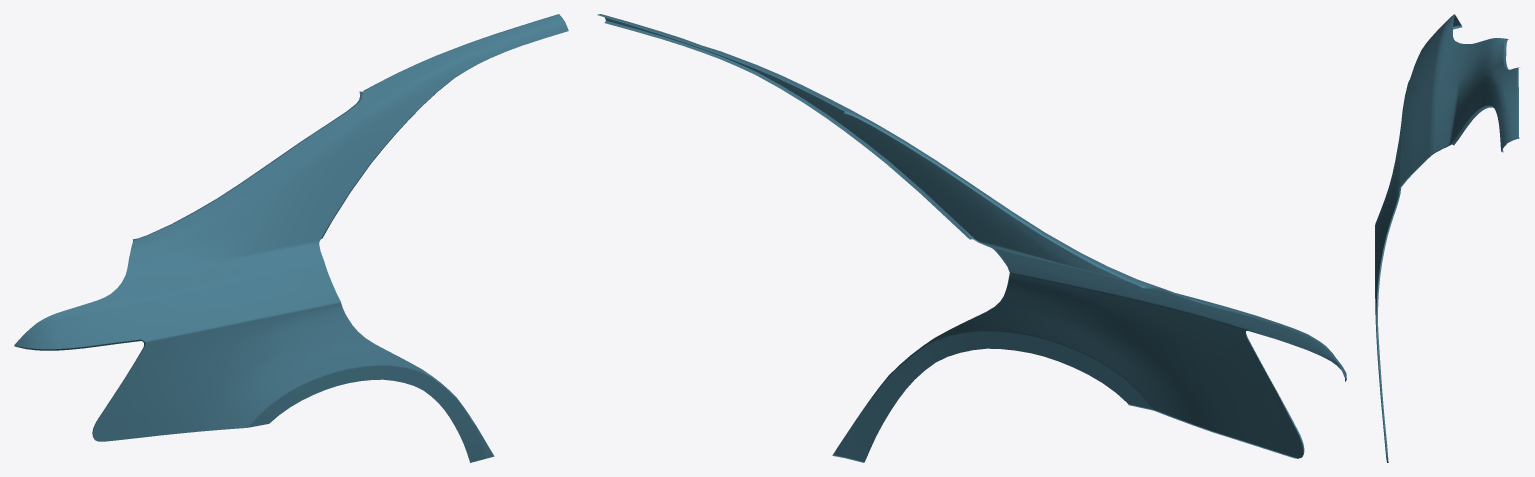
3 views of the same model, side by side, from view 1: azimuth 30°, elevation 25°; view 2: azimuth 150°, elevation 25°; view 3: azimuth 270°, elevation 25° (orthographic). The views are drawn at different scales.
Visible parts, largest first — view 1: Y175_18_401B_R_1_DaS_Y175_18_401B_R, Y175_18_401B_R_1_DaS_Y175_18_401B_R_E; view 2: Y175_18_401B_R_1_DaS_Y175_18_401B_R, Y175_18_401B_R_1_DaS_Y175_18_401B_R_E; view 3: Y175_18_401B_R_1_DaS_Y175_18_401B_R, Y175_18_401B_R_1_DaS_Y175_18_401B_R_E.
Part boxes in pixels (x1,y1,x2,y2): Y175_18_401B_R_1_DaS_Y175_18_401B_R: (14,14,568,462); Y175_18_401B_R_1_DaS_Y175_18_401B_R_E: (14,14,559,437); Y175_18_401B_R_1_DaS_Y175_18_401B_R: (598,14,1346,462); Y175_18_401B_R_1_DaS_Y175_18_401B_R_E: (597,14,1346,462); Y175_18_401B_R_1_DaS_Y175_18_401B_R: (1375,14,1517,461); Y175_18_401B_R_1_DaS_Y175_18_401B_R_E: (1376,14,1519,462).
Size of the model in its own units: 178 by 109 by 36.87.
